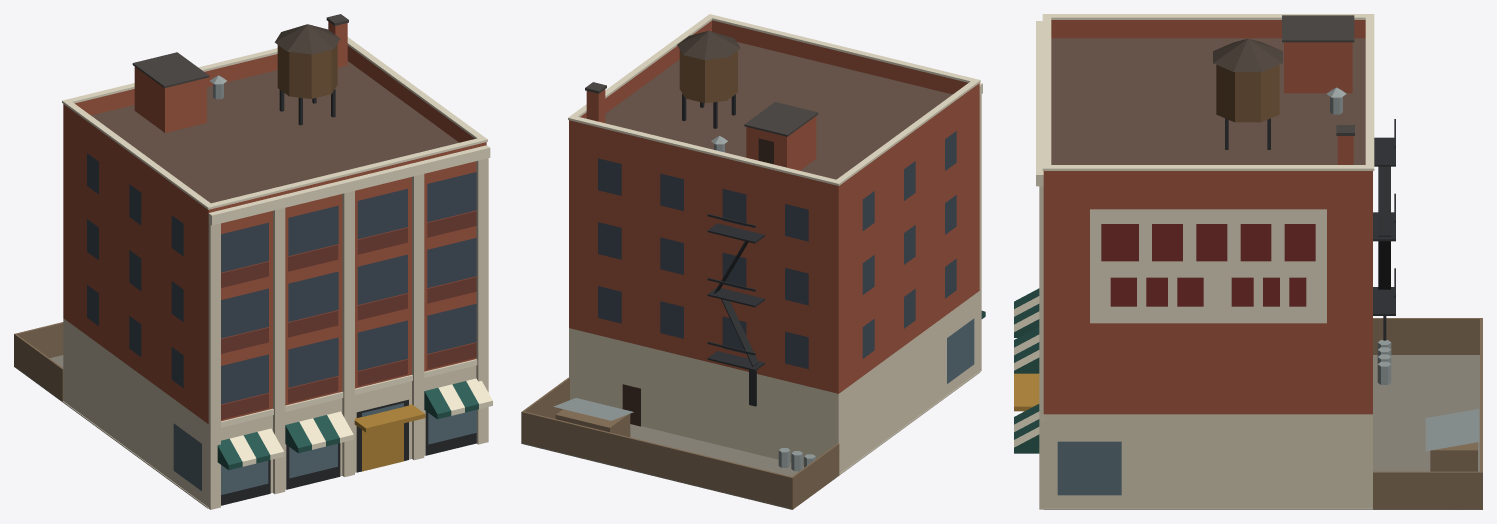
File: office_wa.glb
3 renders of one model, left to right at view 1: azimuth 30°, elevation 25°; view 2: azimuth 150°, elevation 25°; view 3: azimuth 270°, elevation 25°, orthographic. The views are drawn at different scales.
Visible parts, largest first — view 1: office_wa; view 2: office_wa; view 3: office_wa.
Part boxes in pixels (x1,y1,x2,y2): office_wa: (14, 14, 492, 509); office_wa: (521, 14, 985, 509); office_wa: (1014, 14, 1482, 509).
Size of the model in its own units: 20 by 25.44 by 25.62.
